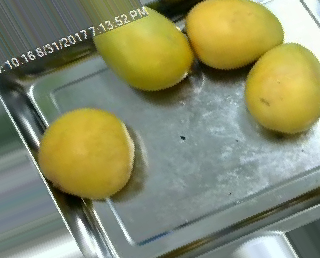Mango: (36, 108, 134, 199), (91, 6, 194, 91), (246, 43, 320, 134), (184, 0, 283, 68)
